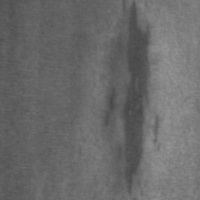inclusion: (115, 1, 167, 197), (95, 84, 120, 131)
